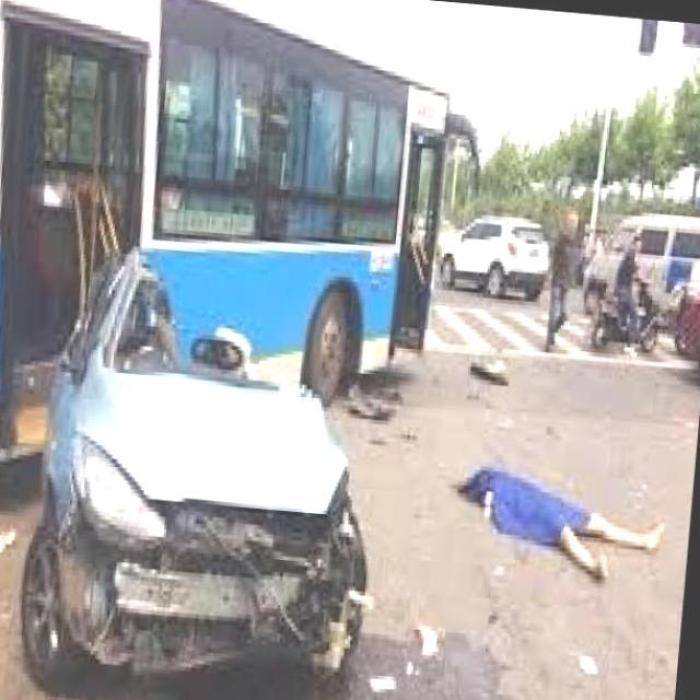Accident: (27, 188, 426, 700)
